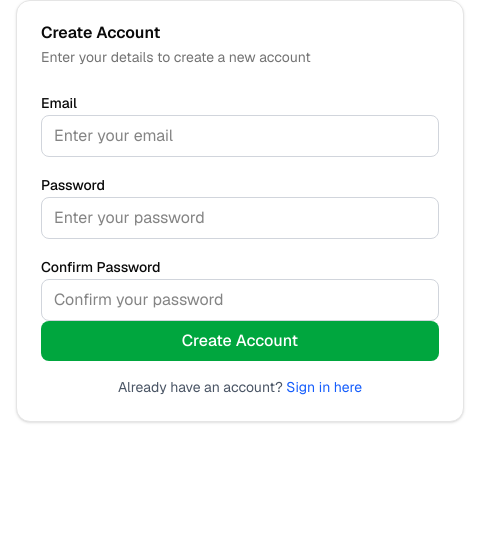
Test: Authentication Tests › SignupForm Component › validates password strength requirements
Type "123" into the password field labelled "Password" at (240, 218), box [41,197,439,239]
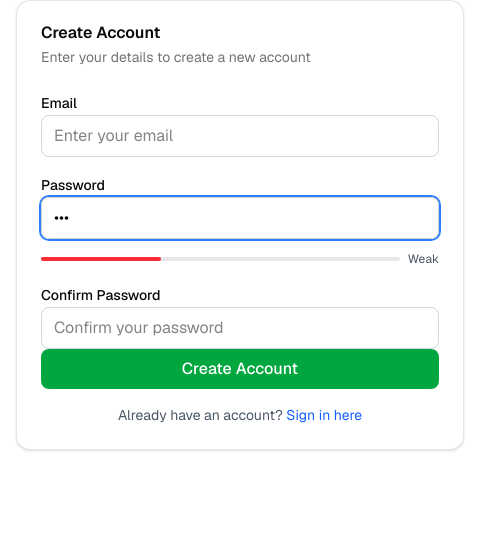
Click the button "Create Account" at (240, 369), box [41,349,439,389]
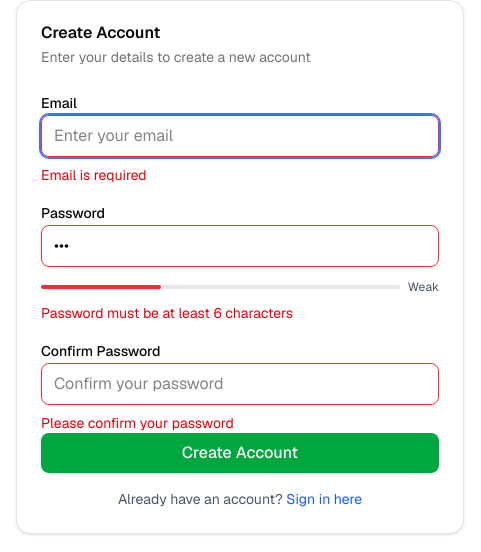
Now the text "Password must be at least 6 characters" is shown, box [41,304,293,322]
